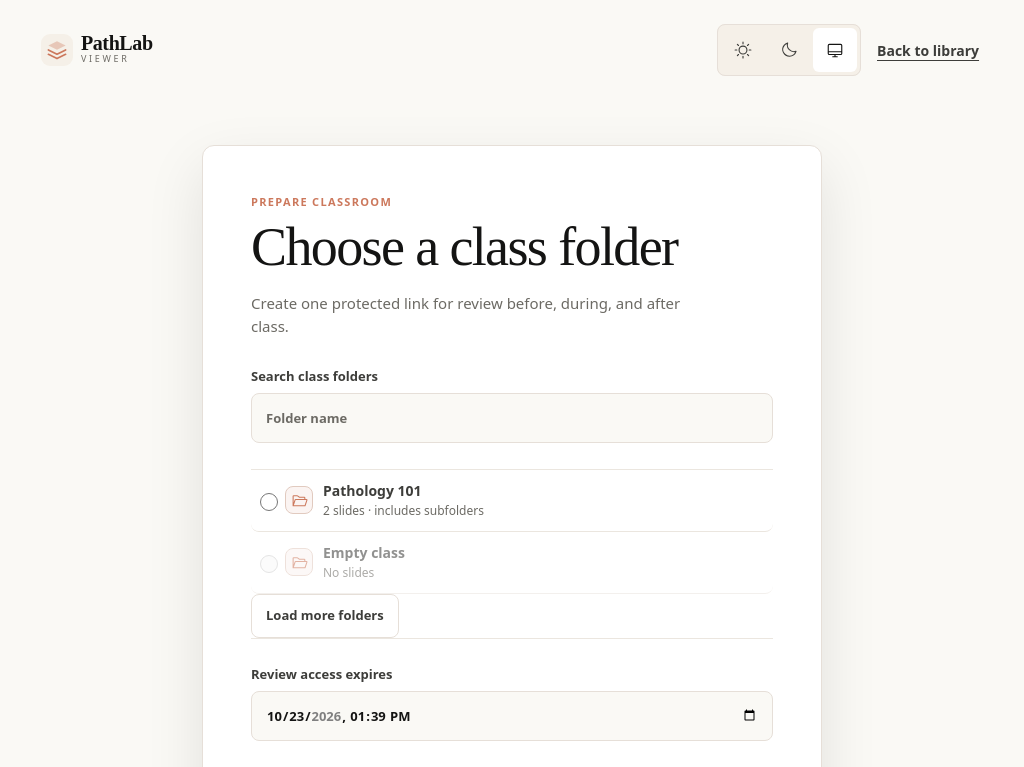
Scenario: Classroom folder setup › does not offer owner recovery when another classroom is in use
Click the radio button labelled "Pathology 101 2 slides · includes subfolders": (269, 502) [260,492,278,510]
(page scrolled)
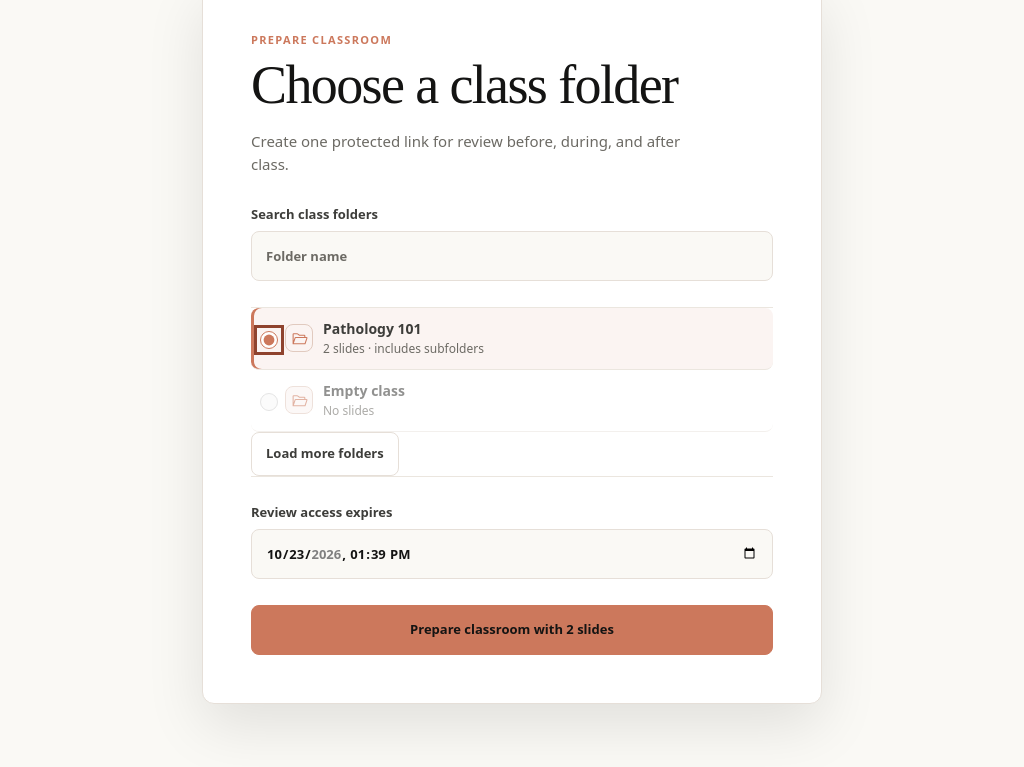
Click the button "Prepare classroom with 2 slides": (512, 630) [251,604,773,654]
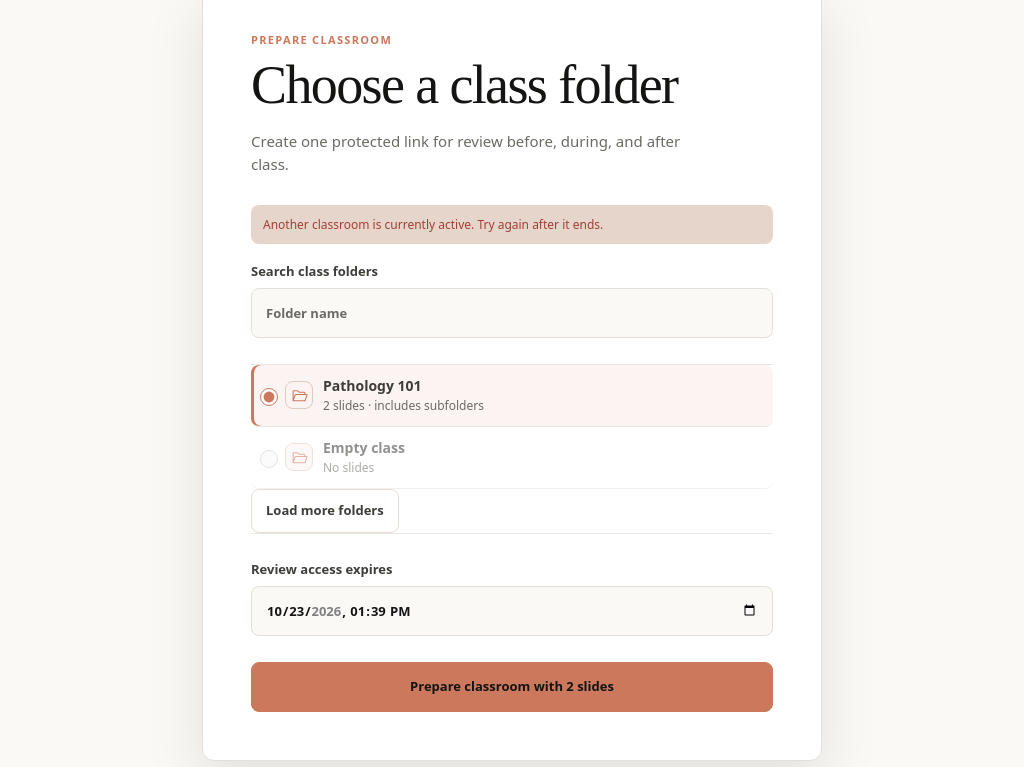
Expected: the message reads "Another classroom is currently active. Try again after it ends.", [263,216,603,232]
